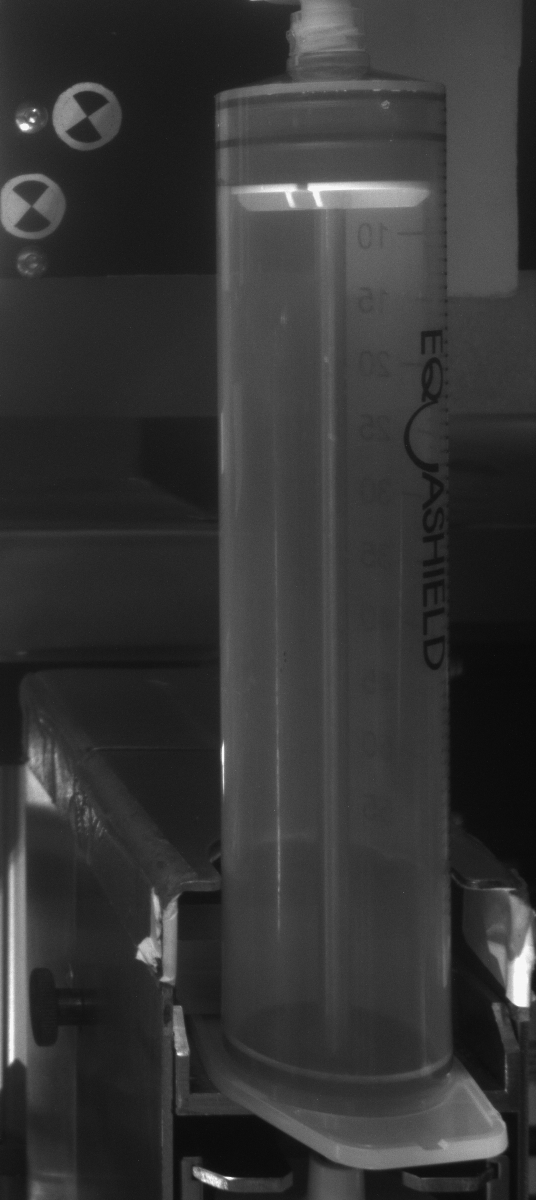piston: (214, 109, 449, 214)
